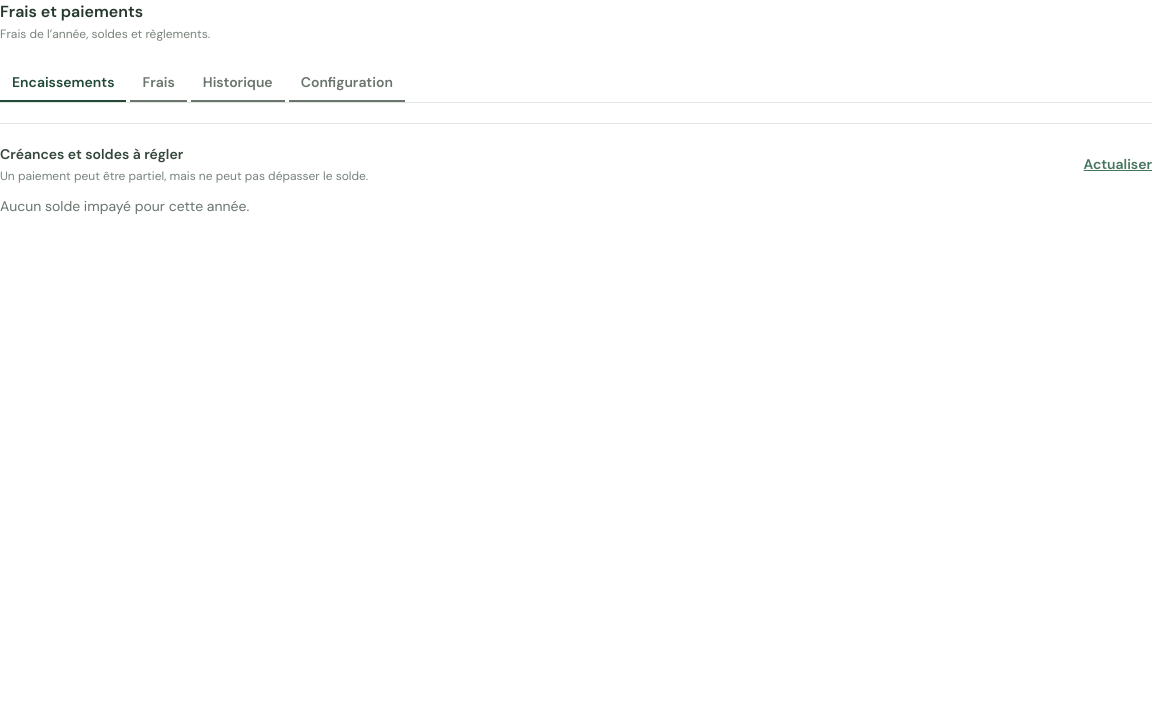
TuitionWorkspaceComponent › devise du frais › propose uniquement XAF et XOF, avec XOF sélectionnée par défaut
The image size is (1152, 720).
Step 1. Click the button "Frais" → (159, 83), box [130,64,187,102]
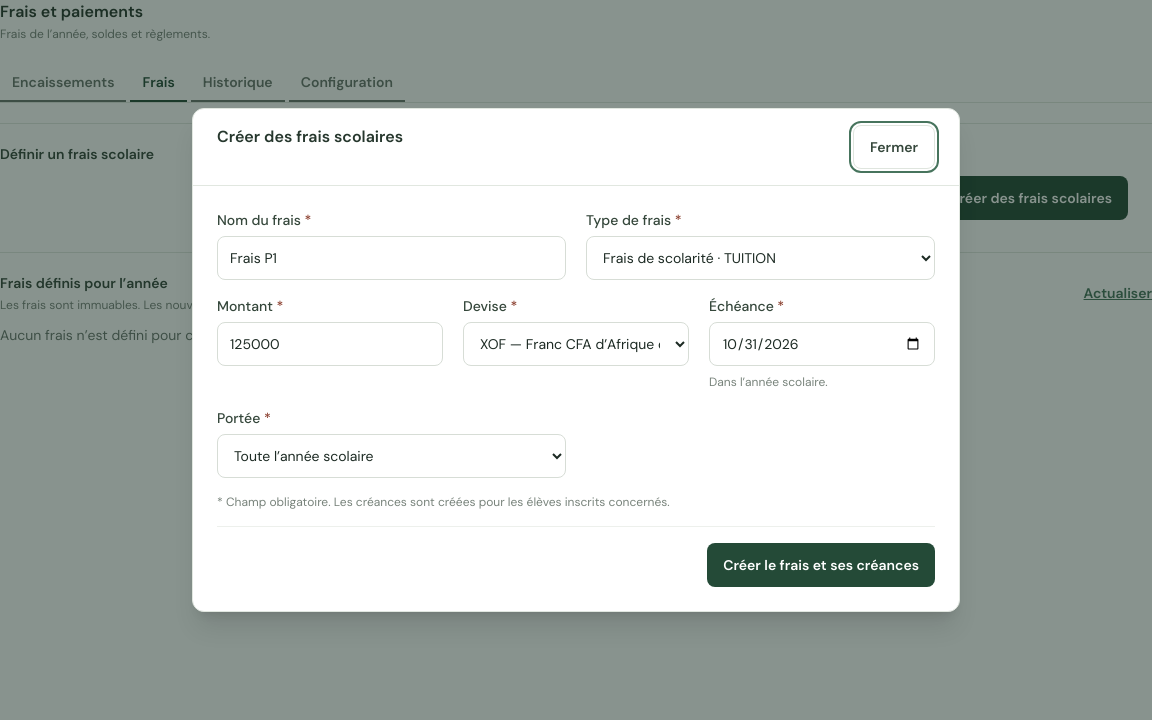
Now the dropdown named "feeCurrency" shows "XOF — Franc CFA d’Afrique de l’Ouest", box [463,322,689,366]
